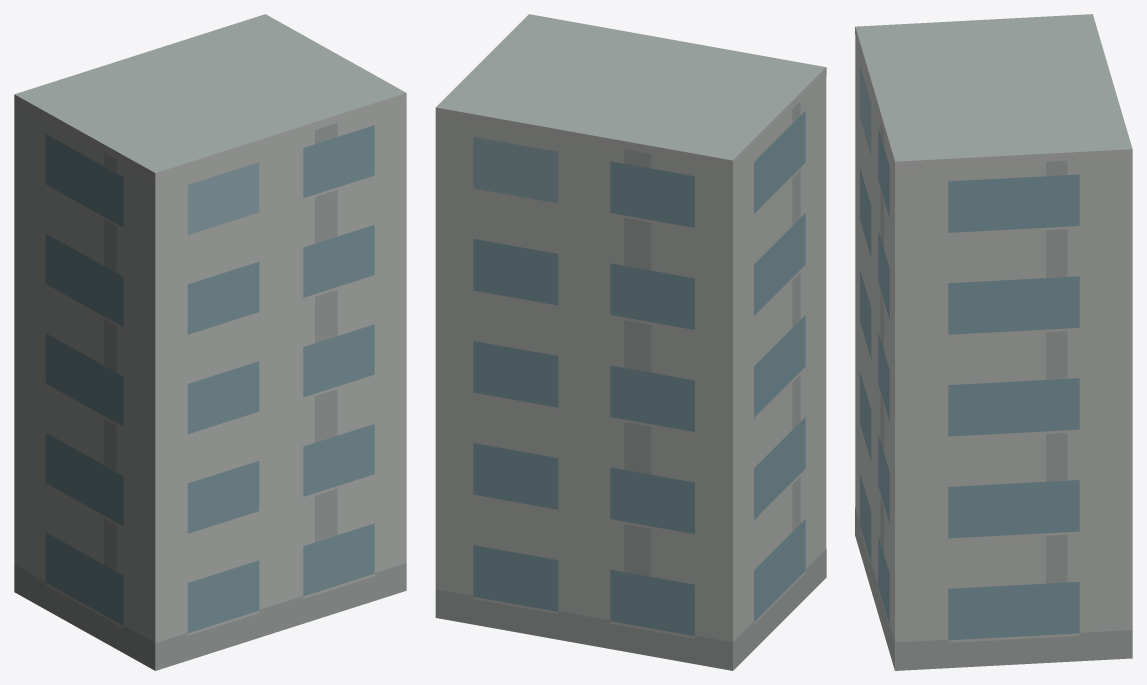
Rendered from residential-57a1580a-ec68-4c79-9831-912237747566.glb.
The picture shows the model from 3 angles, left to right: view 1: azimuth 30°, elevation 25°; view 2: azimuth 150°, elevation 25°; view 3: azimuth 270°, elevation 25°; orthographic projection. The views are drawn at different scales.
Parts seen in each view (by area): view 1: residential-57a1580a-ec68-4c79-9831-912237747566.tmp; view 2: residential-57a1580a-ec68-4c79-9831-912237747566.tmp; view 3: residential-57a1580a-ec68-4c79-9831-912237747566.tmp.
Part boxes in pixels (<box>): residential-57a1580a-ec68-4c79-9831-912237747566.tmp: <box>14,14,406,670</box>; residential-57a1580a-ec68-4c79-9831-912237747566.tmp: <box>435,14,826,670</box>; residential-57a1580a-ec68-4c79-9831-912237747566.tmp: <box>855,14,1132,670</box>.
Bounding box in the file's own units: 9.49 × 15.25 × 7.54.
